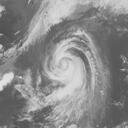cyclone: (43, 36, 97, 93)
